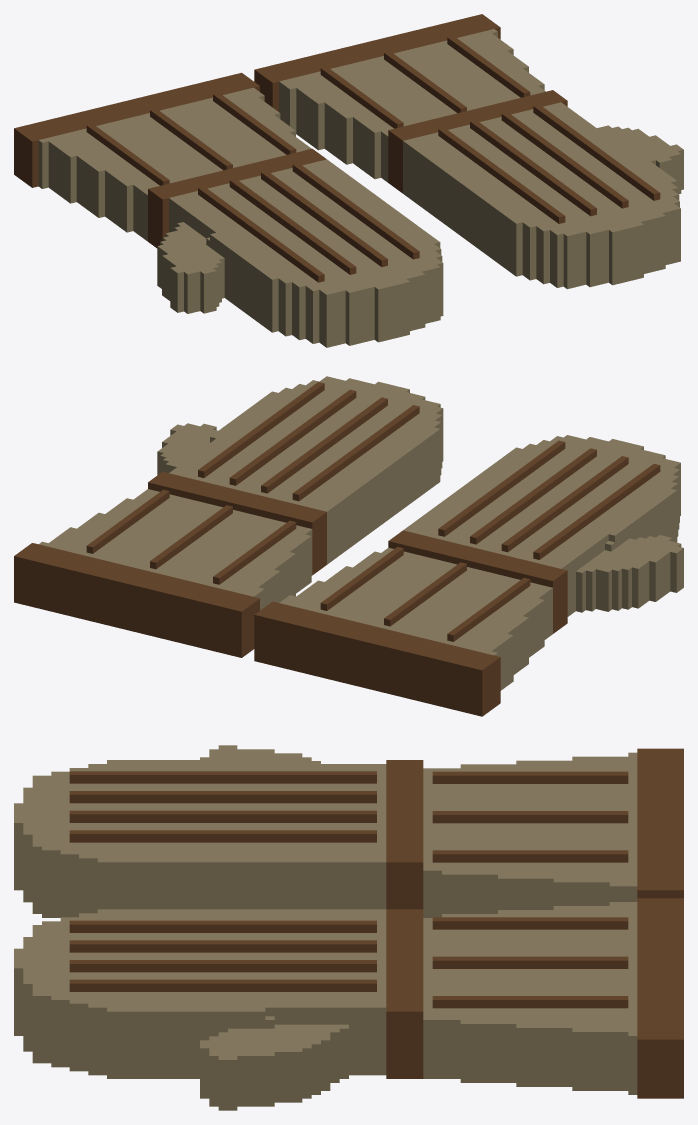
Rendered from gambeson_gloves_canvas.glb.
3 views of the same model, one above another, from view 1: azimuth 30°, elevation 25°; view 2: azimuth 150°, elevation 25°; view 3: azimuth 270°, elevation 25° (orthographic). The views are drawn at different scales.
Parts seen in each view (by area): view 1: gambeson_gloves_canvas:compound; view 2: gambeson_gloves_canvas:compound; view 3: gambeson_gloves_canvas:compound.
Boxes of the visible parts, left/top/right/bottom form: gambeson_gloves_canvas:compound: left=14, top=14, right=683, bottom=347; gambeson_gloves_canvas:compound: left=14, top=376, right=683, bottom=716; gambeson_gloves_canvas:compound: left=14, top=745, right=683, bottom=1110.
Bounding box in the file's own units: 0.32 × 0.036 × 0.288.
